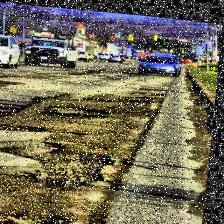pothole: (0, 130, 119, 188), (42, 99, 114, 121), (1, 119, 52, 134)
